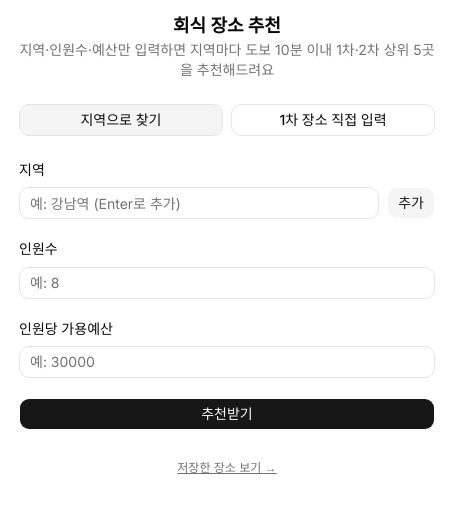
Test: RecommendForm › 지역을 입력하고 Enter를 누르면 칩으로 추가된다
This screenshot has width=452, height=523.
Type "동탄역" into the field labelled "지역" at (199, 203), box [19, 187, 379, 219]
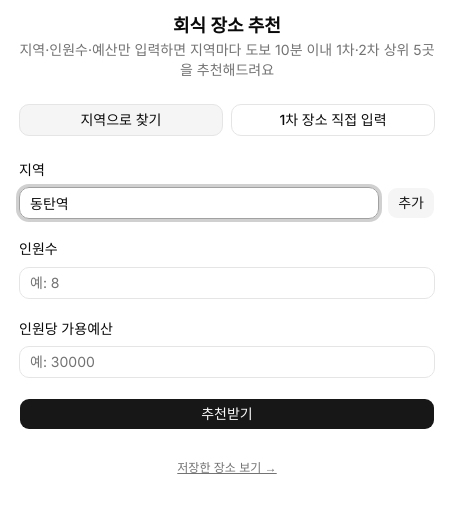
Press Enter
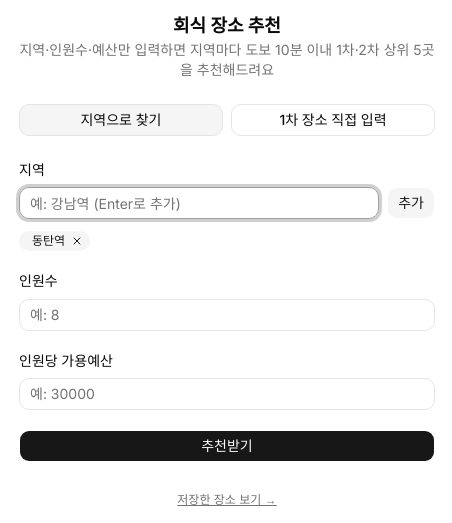
Result: the text "동탄역" is shown at [19, 231, 90, 251]
Result: the field labelled "지역" is empty at [19, 187, 379, 219]
